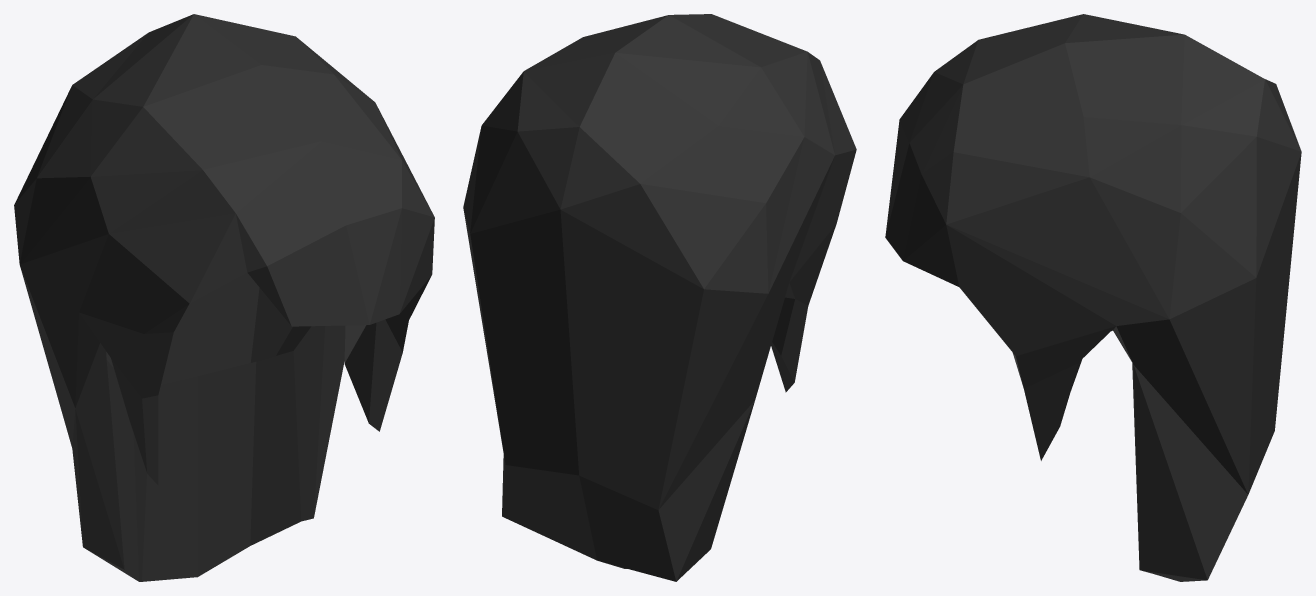
File: MP_Hair_Type1_F_SemiLong3.fbx
3 renders of one model, left to right at view 1: azimuth 30°, elevation 25°; view 2: azimuth 150°, elevation 25°; view 3: azimuth 270°, elevation 25°, orthographic. The views are drawn at different scales.
Parts seen in each view (by area): view 1: MP_Hair_Type1_F_SemiLong3; view 2: MP_Hair_Type1_F_SemiLong3; view 3: MP_Hair_Type1_F_SemiLong3.
Part boxes in pixels (x1,y1,x2,y2): MP_Hair_Type1_F_SemiLong3: (14, 14, 434, 581); MP_Hair_Type1_F_SemiLong3: (463, 14, 856, 581); MP_Hair_Type1_F_SemiLong3: (885, 14, 1301, 581).
Size of the model in its own units: 0.2536 by 0.3971 by 0.2799.
